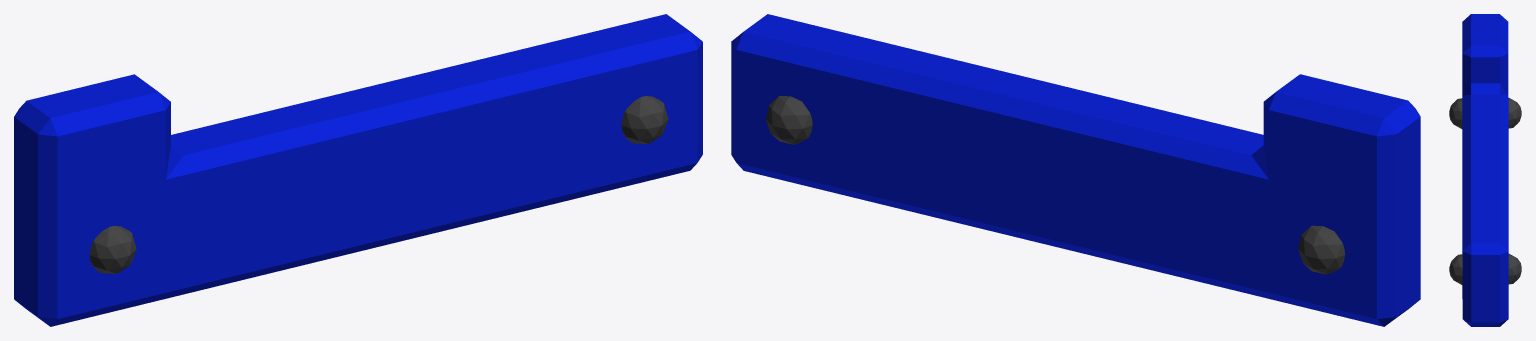
Rendered from BarLA.fbx.
The picture shows the model from 3 angles, left to right: view 1: azimuth 30°, elevation 25°; view 2: azimuth 150°, elevation 25°; view 3: azimuth 270°, elevation 25°; orthographic projection. The views are drawn at different scales.
Visible parts, largest first — view 1: BarA; view 2: BarA; view 3: BarA.
Part boxes in pixels (x1,y1,x2,y2): BarA: (14, 14, 702, 326); BarA: (731, 14, 1420, 326); BarA: (1449, 14, 1521, 326).
Bounding box in the file's own units: 1000 × 300 × 157.
